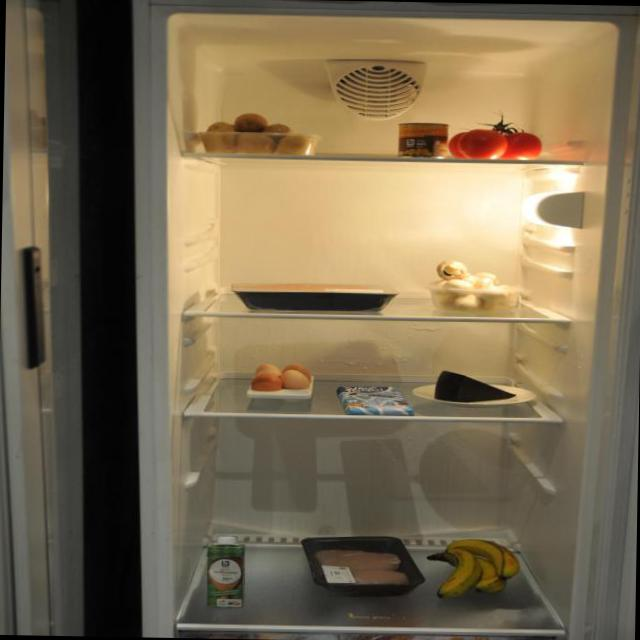Carne pollo: (310, 541, 424, 587)
Champiñones: (429, 255, 526, 312)
Huevos: (252, 361, 316, 394)
Patata: (199, 110, 319, 156)
Plátano: (426, 535, 528, 601)
Queso: (432, 370, 527, 406)
Tomate: (449, 128, 546, 162)
chocolate: (336, 382, 414, 420)
corn: (396, 120, 454, 160)
heavy_cream: (205, 534, 244, 615)
